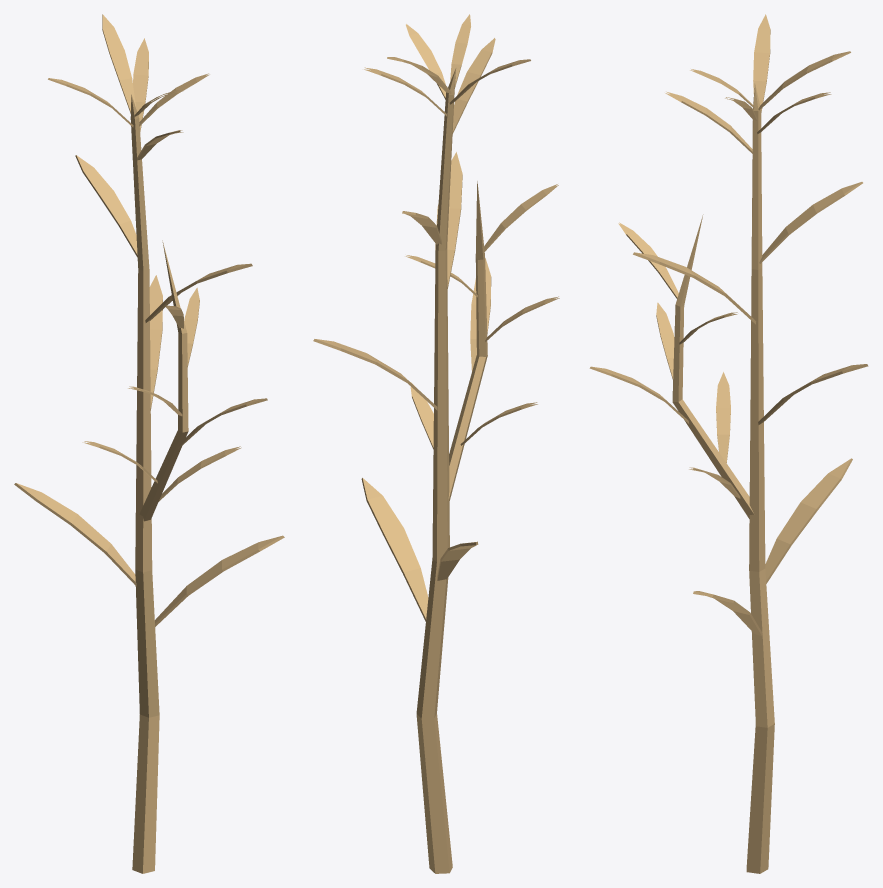
File: Mega_Asset_s_Pack_Cylinder_043.FBX
3 renders of one model, left to right at view 1: azimuth 30°, elevation 25°; view 2: azimuth 150°, elevation 25°; view 3: azimuth 270°, elevation 25°, orthographic. The views are drawn at different scales.
Visible parts, largest first — view 1: Mega_Asset_s_Pack_Cylinder_043; view 2: Mega_Asset_s_Pack_Cylinder_043; view 3: Mega_Asset_s_Pack_Cylinder_043.
Boxes of the visible parts, left/top/right/bottom form: Mega_Asset_s_Pack_Cylinder_043: left=14, top=14, right=284, bottom=873; Mega_Asset_s_Pack_Cylinder_043: left=313, top=14, right=559, bottom=873; Mega_Asset_s_Pack_Cylinder_043: left=589, top=14, right=868, bottom=873.
Size of what is drawn, in the model's own units: 76.08 by 91.44 by 297.
